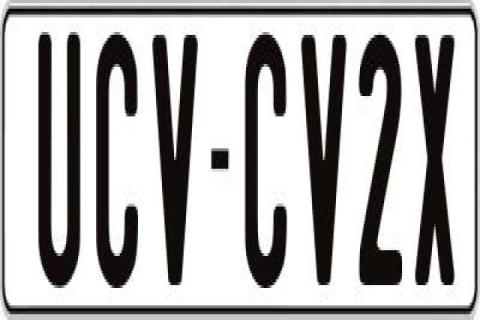0: (358, 32, 406, 288)
C: (244, 35, 294, 297), (92, 27, 138, 280)
U: (35, 27, 77, 286)
V: (298, 29, 344, 288), (152, 29, 198, 285)
X: (412, 32, 454, 288)
